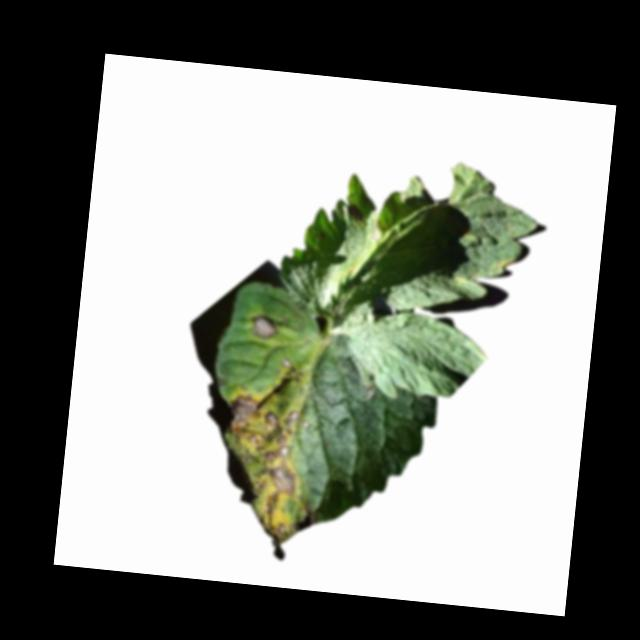Early_blight: (216, 392, 328, 547), (249, 315, 279, 340), (278, 358, 303, 385), (346, 202, 365, 222)
